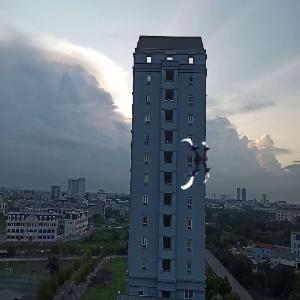drone: (171, 136, 222, 187)
